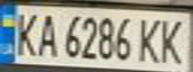2: (78, 12, 100, 61)
6: (112, 14, 139, 62), (60, 11, 84, 60)
8: (97, 12, 118, 61)
A: (33, 10, 60, 57)
K: (154, 16, 190, 65), (133, 15, 166, 64), (9, 8, 42, 57)
